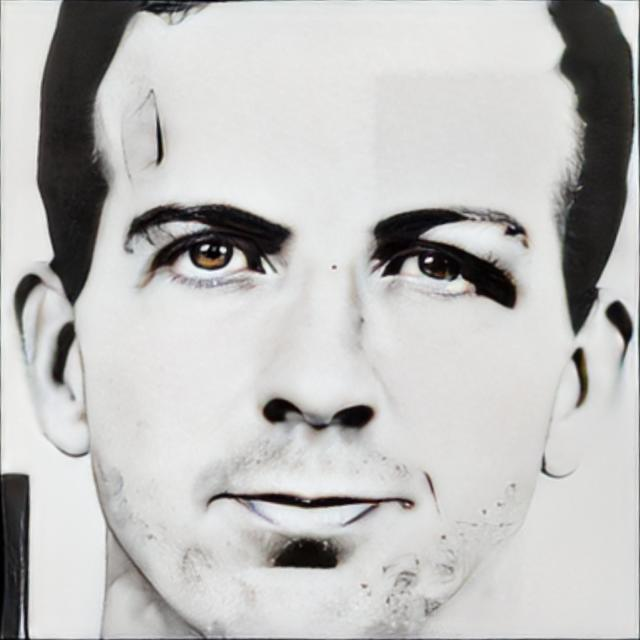neutral: (74, 0, 577, 640)
